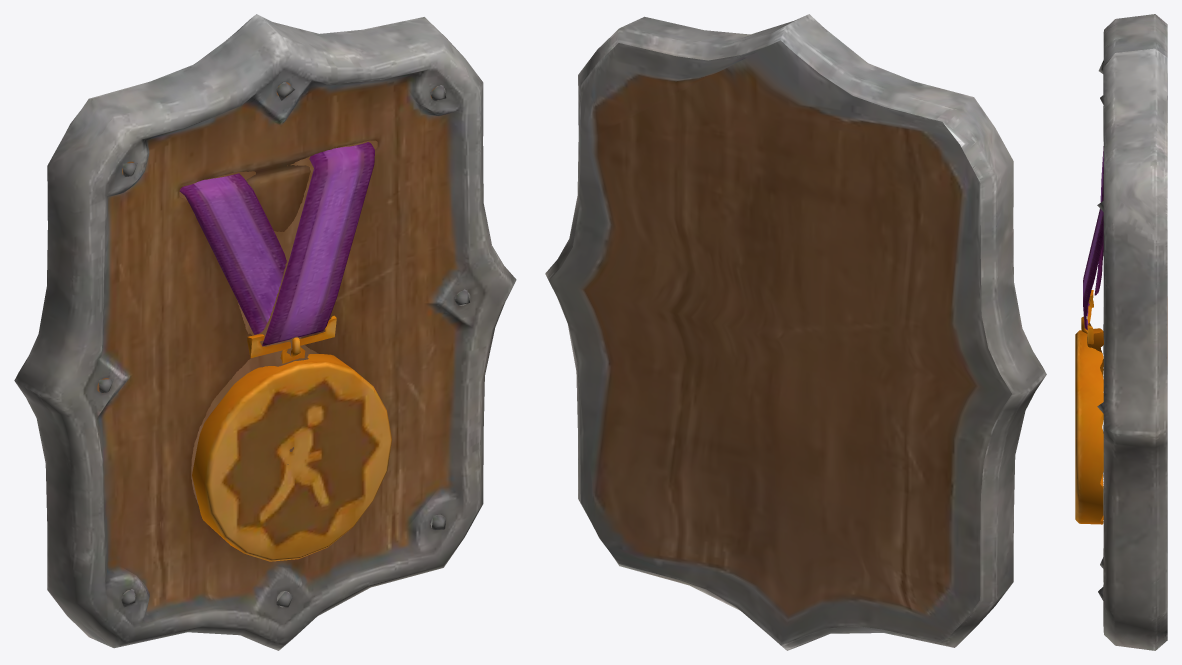
The picture shows the model from 3 angles, left to right: view 1: azimuth 30°, elevation 25°; view 2: azimuth 150°, elevation 25°; view 3: azimuth 270°, elevation 25°; orthographic projection. The views are drawn at different scales.
Parts seen in each view (by area): view 1: SM_Agility_Medal_Gold_01_LOD0; view 2: SM_Agility_Medal_Gold_01_LOD0; view 3: SM_Agility_Medal_Gold_01_LOD0.
Boxes of the visible parts, box(x1,y1,x2,y2) form: SM_Agility_Medal_Gold_01_LOD0: box(14, 14, 516, 650); SM_Agility_Medal_Gold_01_LOD0: box(545, 14, 1046, 650); SM_Agility_Medal_Gold_01_LOD0: box(1075, 14, 1167, 650).
Bounding box in the file's own units: 0.707 × 0.873 × 0.1282.
1 material, 1 textured.
